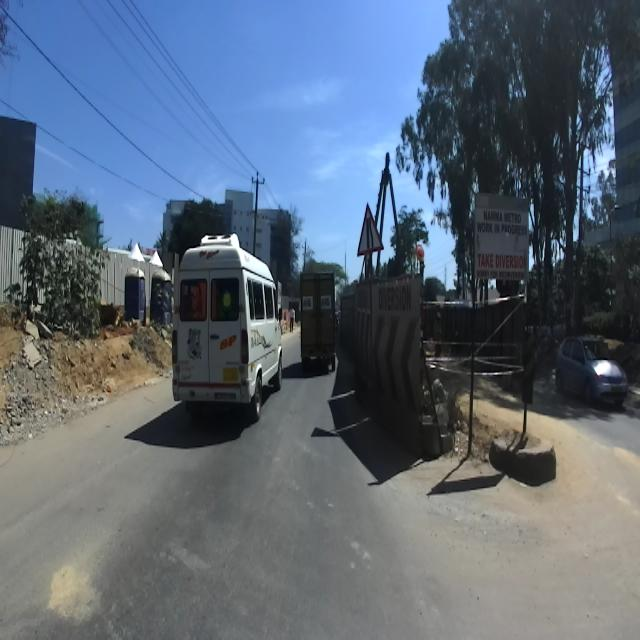bus ahead at: (167, 228, 286, 438)
car ahead at: (296, 271, 344, 372)
sign board ahead at: (464, 189, 534, 453), (352, 196, 389, 272)
